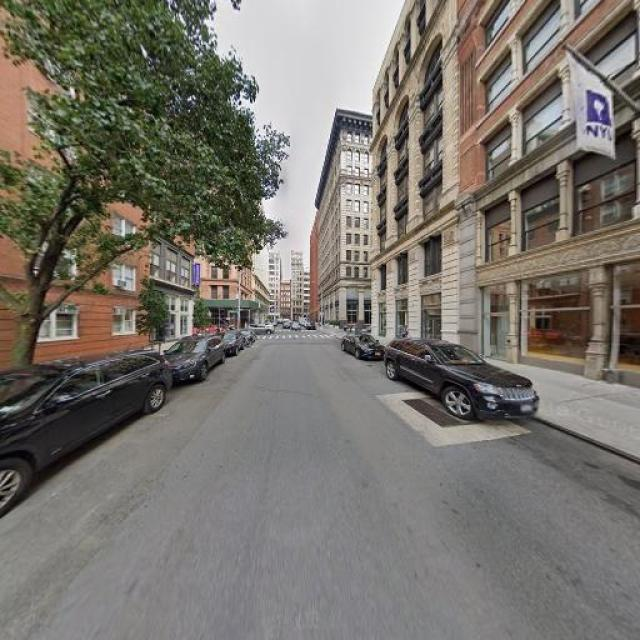Building: (1, 1, 194, 380), (460, 1, 640, 395), (374, 1, 457, 355)
